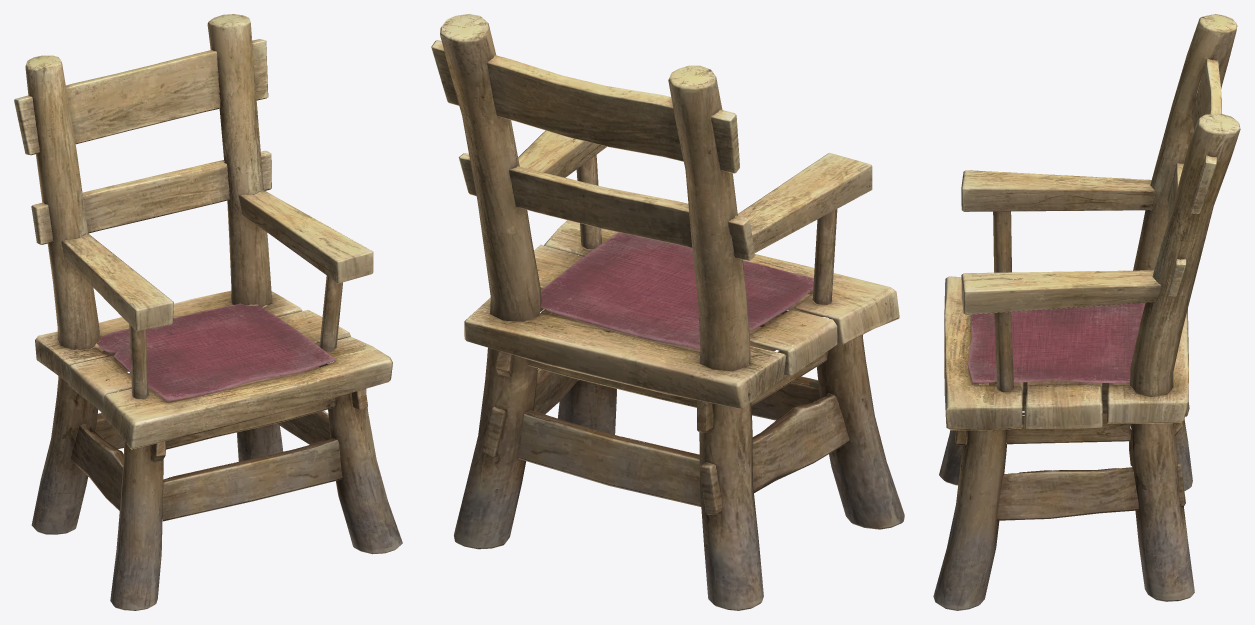
The picture shows the model from 3 angles, left to right: view 1: azimuth 30°, elevation 25°; view 2: azimuth 150°, elevation 25°; view 3: azimuth 270°, elevation 25°; orthographic projection. The views are drawn at different scales.
Visible parts, largest first — view 1: SM_Armchair_01v1_LOD0; view 2: SM_Armchair_01v1_LOD0; view 3: SM_Armchair_01v1_LOD0.
Part boxes in pixels (<box>): SM_Armchair_01v1_LOD0: <box>14,14,402,610</box>; SM_Armchair_01v1_LOD0: <box>431,14,904,610</box>; SM_Armchair_01v1_LOD0: <box>933,14,1240,610</box>.
Bounding box in the file's own units: 0.8048 × 1.2 × 0.7101.
1 material, 1 textured.
